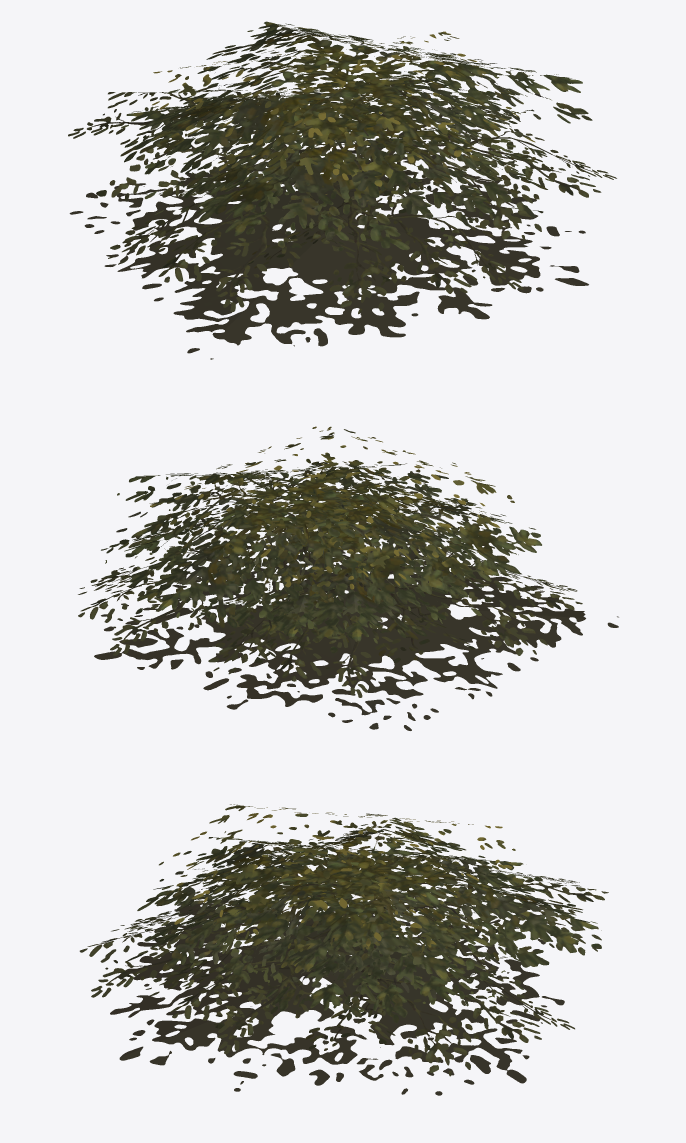
The model's file is plants_bushes04.fbx.
The picture shows the model from 3 angles, top to bottom: view 1: azimuth 30°, elevation 25°; view 2: azimuth 150°, elevation 25°; view 3: azimuth 270°, elevation 25°; orthographic projection. The views are drawn at different scales.
Parts seen in each view (by area): view 1: obj0.119; view 2: obj0.119; view 3: obj0.119.
Part boxes in pixels (x1,y1,x2,y2): obj0.119: (68, 21, 616, 359); obj0.119: (78, 426, 618, 730); obj0.119: (79, 804, 608, 1095).
Size of the model in its own units: 5.28 by 1.49 by 5.46.
